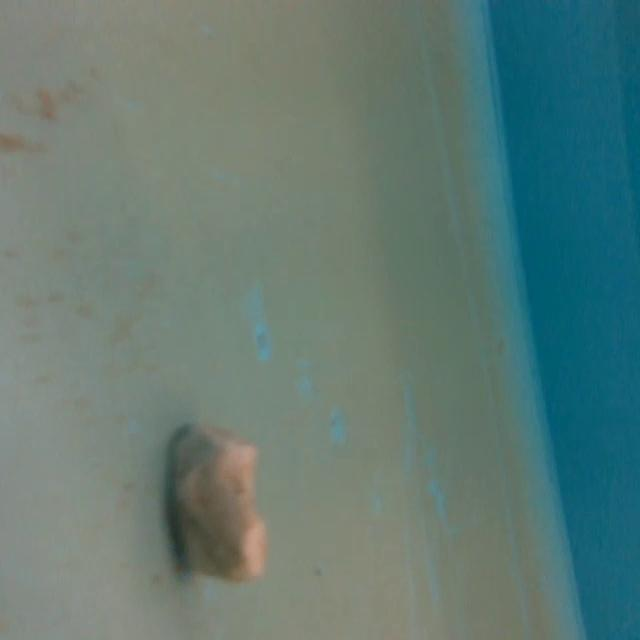rock: (161, 416, 279, 588)
